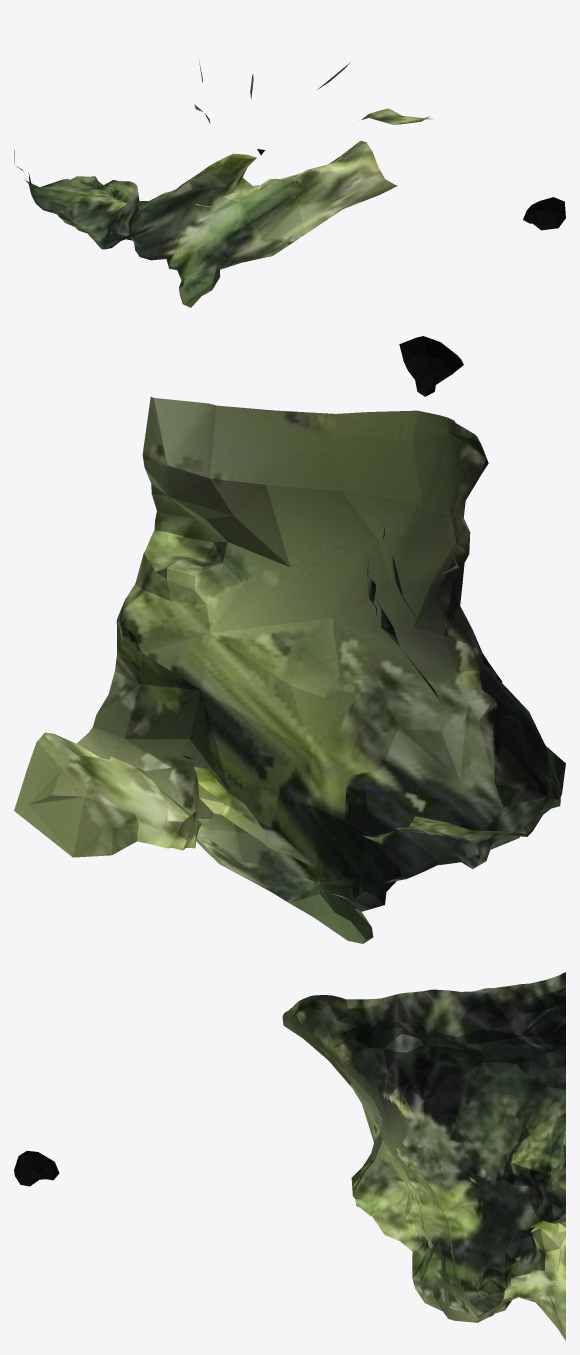
3 renders of one model, top to bottom at view 1: azimuth 30°, elevation 25°; view 2: azimuth 150°, elevation 25°; view 3: azimuth 270°, elevation 25°, orthographic. The views are drawn at different scales.
Size of the model in its own units: 16.4 by 12.78 by 20.66.
Materials: 1 (1 with a texture image).
